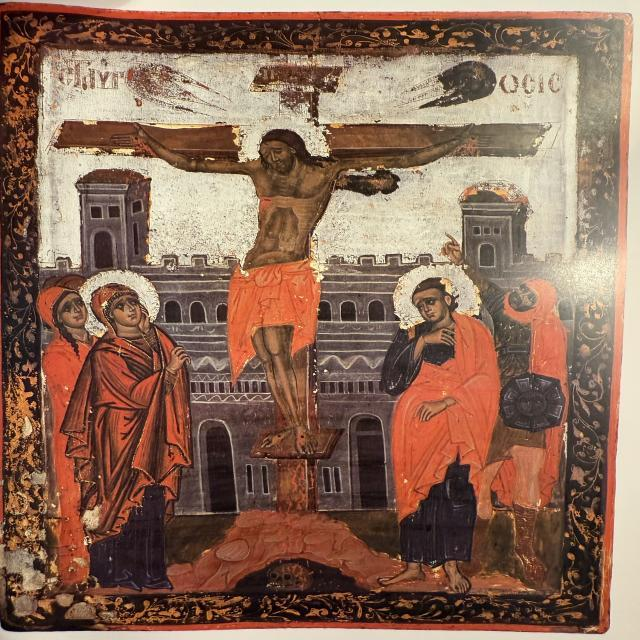aura: (387, 261, 483, 333), (73, 270, 163, 334)
christ_crucifiction: (55, 59, 558, 591)
mary: (72, 270, 196, 578)
saint: (368, 259, 488, 569)
shield: (500, 371, 570, 435)
